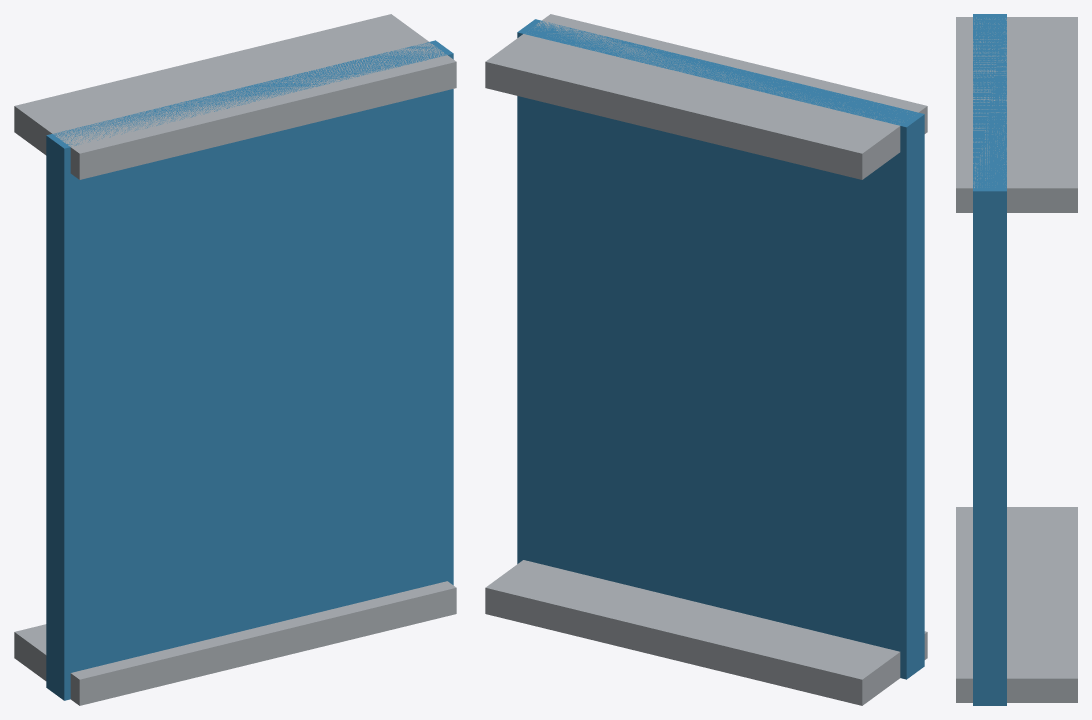
The picture shows the model from 3 angles, left to right: view 1: azimuth 30°, elevation 25°; view 2: azimuth 150°, elevation 25°; view 3: azimuth 270°, elevation 25°; orthographic projection. The views are drawn at different scales.
Visible parts, largest first — view 1: shooter_hood, hood_side_1, hood_side; view 2: shooter_hood, hood_side_1, hood_side; view 3: shooter_hood, hood_side_1, hood_side.
Part boxes in pixels (x1=…): shooter_hood: x1=46, y1=40, x2=453, y2=700; hood_side_1: x1=14, y1=14, x2=456, y2=179; hood_side: x1=14, y1=581, x2=456, y2=705; shooter_hood: x1=517, y1=19, x2=924, y2=679; hood_side_1: x1=485, y1=14, x2=927, y2=179; hood_side: x1=485, y1=560, x2=927, y2=705; shooter_hood: x1=973, y1=14, x2=1006, y2=705; hood_side_1: x1=956, y1=17, x2=1077, y2=212; hood_side: x1=956, y1=507, x2=1077, y2=702.
Bounding box in the file's own units: 0.31 × 0.42 × 0.09.
